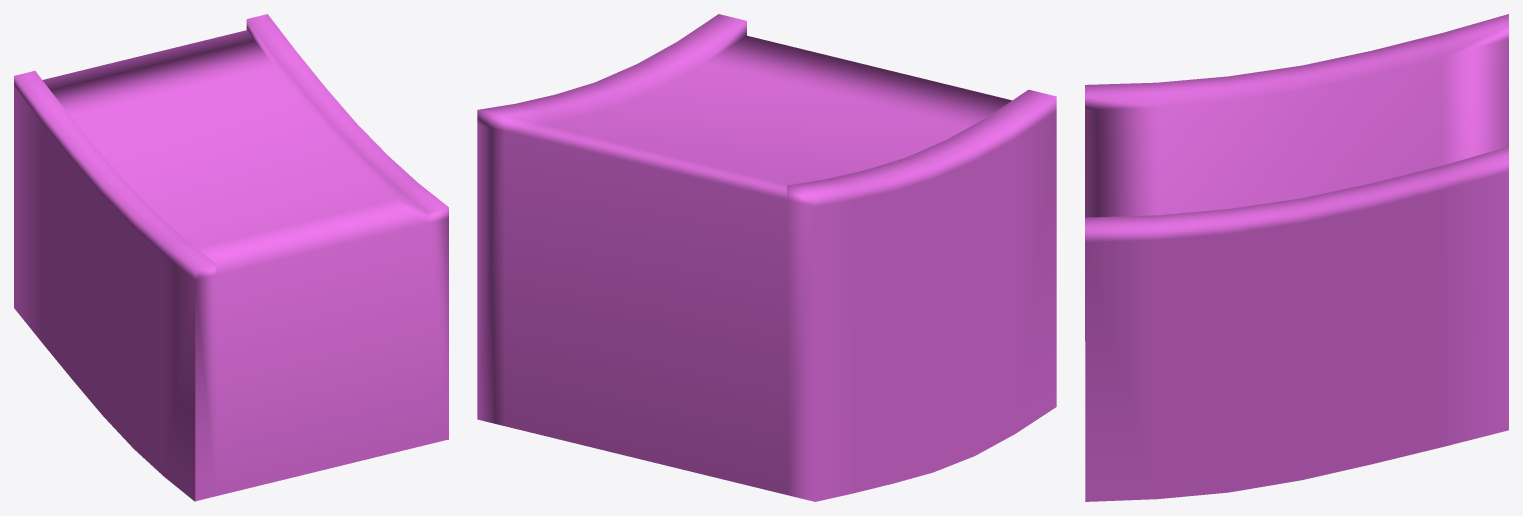
The model's file is RD_Hump_Bridge1_Half2.fbx.
The picture shows the model from 3 angles, left to right: view 1: azimuth 30°, elevation 25°; view 2: azimuth 150°, elevation 25°; view 3: azimuth 270°, elevation 25°; orthographic projection. The views are drawn at different scales.
Parts seen in each view (by area): view 1: Mesh; view 2: Mesh; view 3: Mesh.
Part boxes in pixels (x1,y1,x2,y2): Mesh: (14, 14, 448, 501); Mesh: (477, 14, 1056, 501); Mesh: (1085, 14, 1508, 501).
Size of the model in its own units: 480 by 531 by 594.
